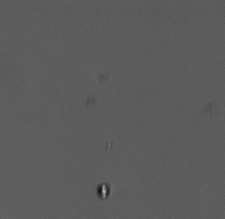Living Cell: (95, 181, 111, 200)
